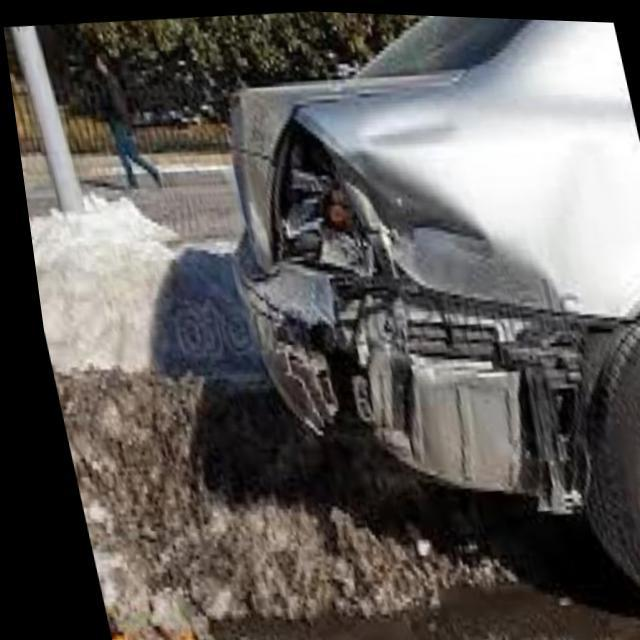no part: (256, 104, 625, 509)
